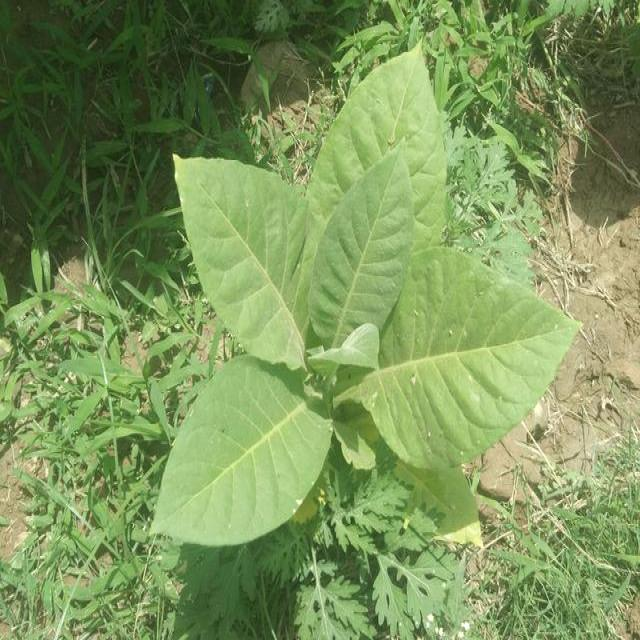crop: (152, 39, 581, 556)
